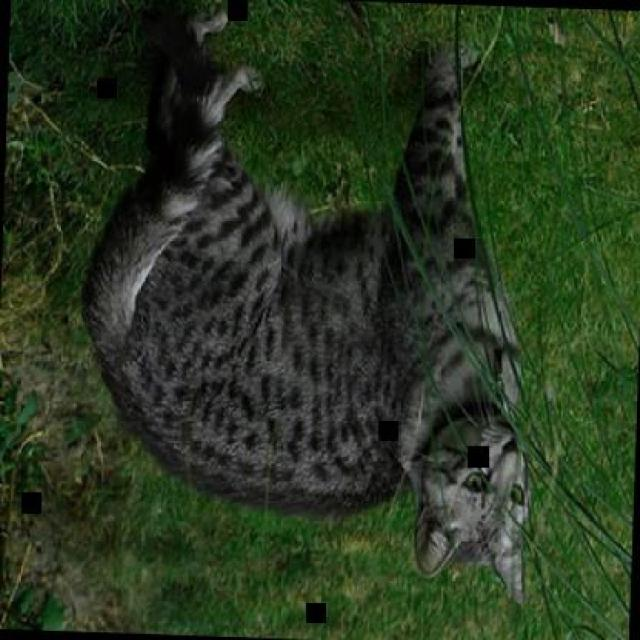cat: (73, 0, 544, 609)
